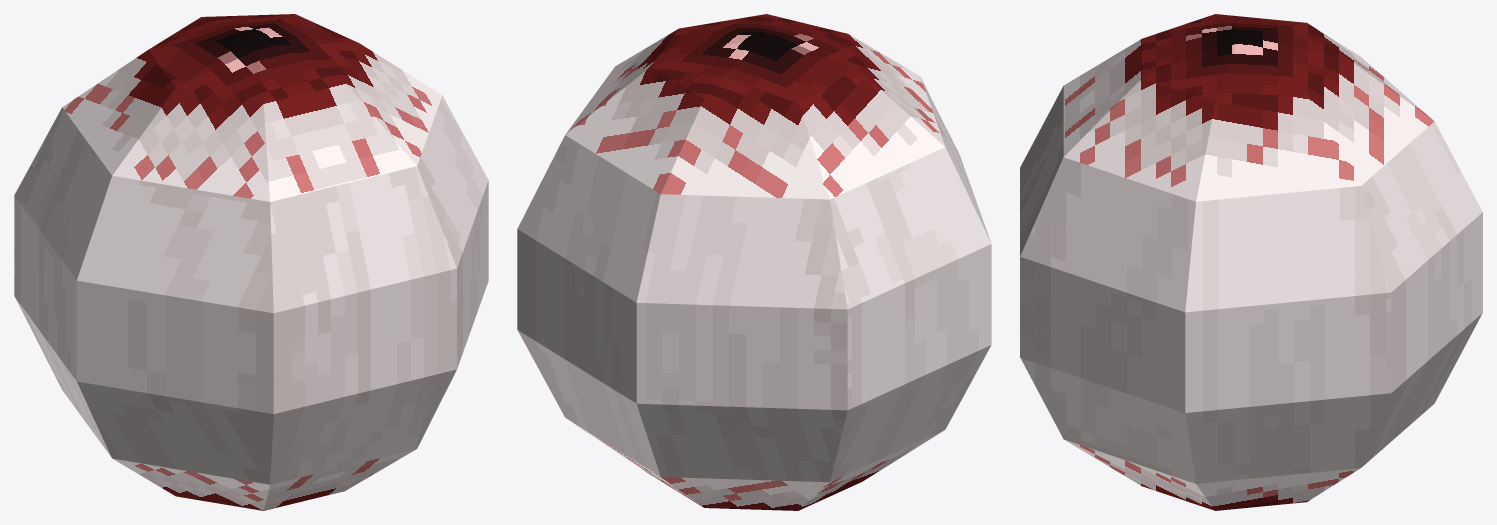
The model's file is Eye.fbx.
3 renders of one model, left to right at view 1: azimuth 30°, elevation 25°; view 2: azimuth 150°, elevation 25°; view 3: azimuth 270°, elevation 25°, orthographic.
Visible parts, largest first — view 1: Sphere; view 2: Sphere; view 3: Sphere.
Part boxes in pixels (box(x1,y1,x2,y2)): Sphere: box(14, 14, 488, 510); Sphere: box(517, 14, 991, 510); Sphere: box(1020, 14, 1482, 510).
Size of the model in its own units: 116 by 122 by 113.
Materials: 1 (1 with a texture image).
